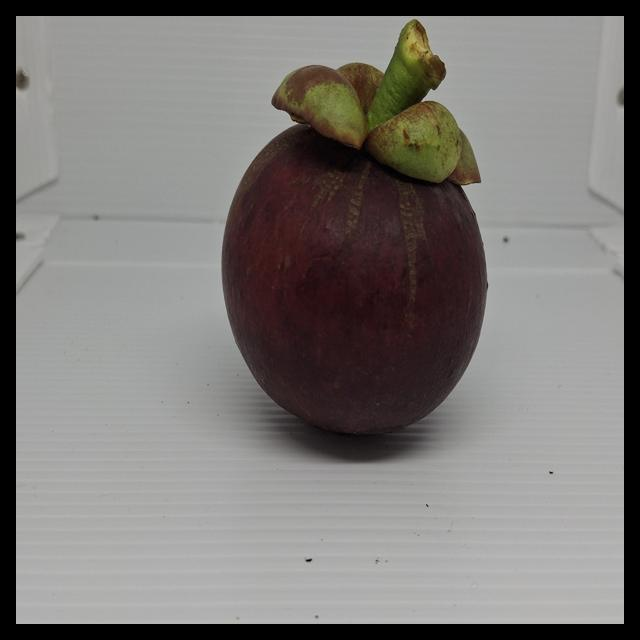mangosteen: (207, 22, 512, 495)
